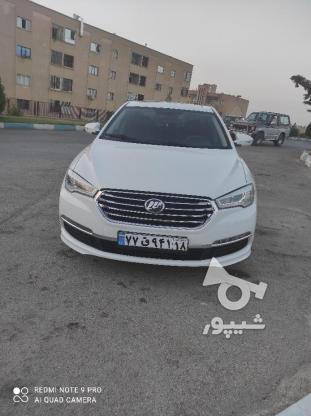car: (117, 229, 188, 254)
